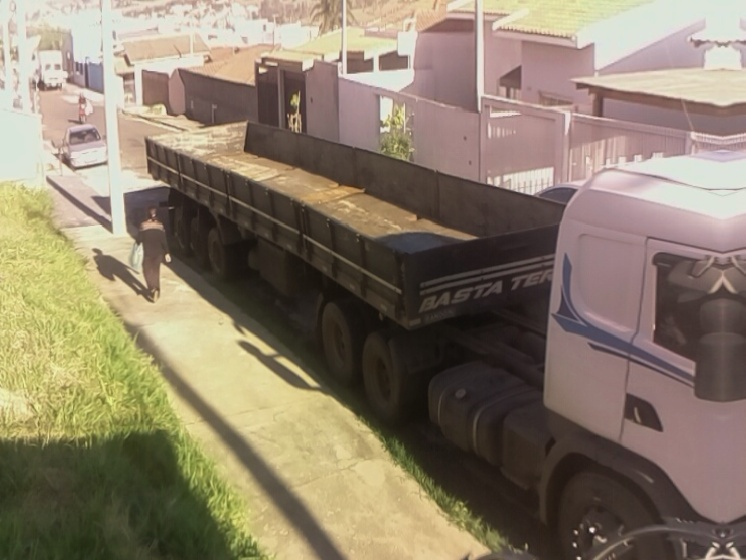person: (128, 201, 176, 304)
